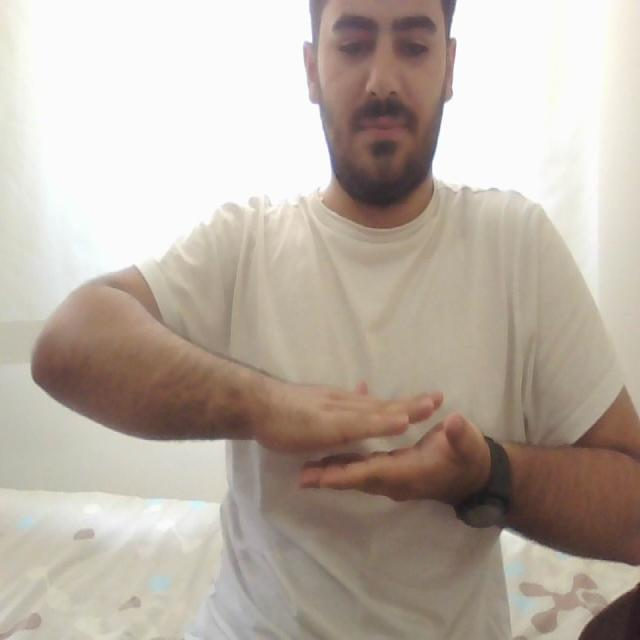Arkadas: (193, 354, 640, 516)
